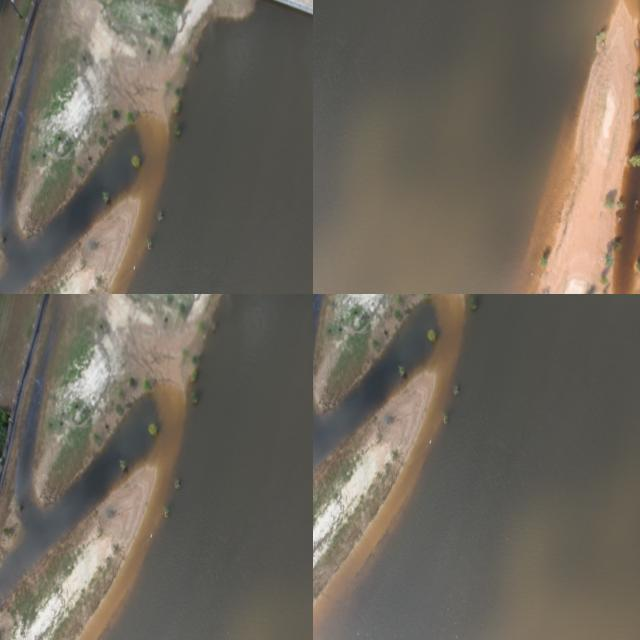fire: (313, 294, 640, 640), (0, 294, 236, 478), (0, 0, 120, 294), (333, 0, 430, 294), (313, 302, 437, 469)
